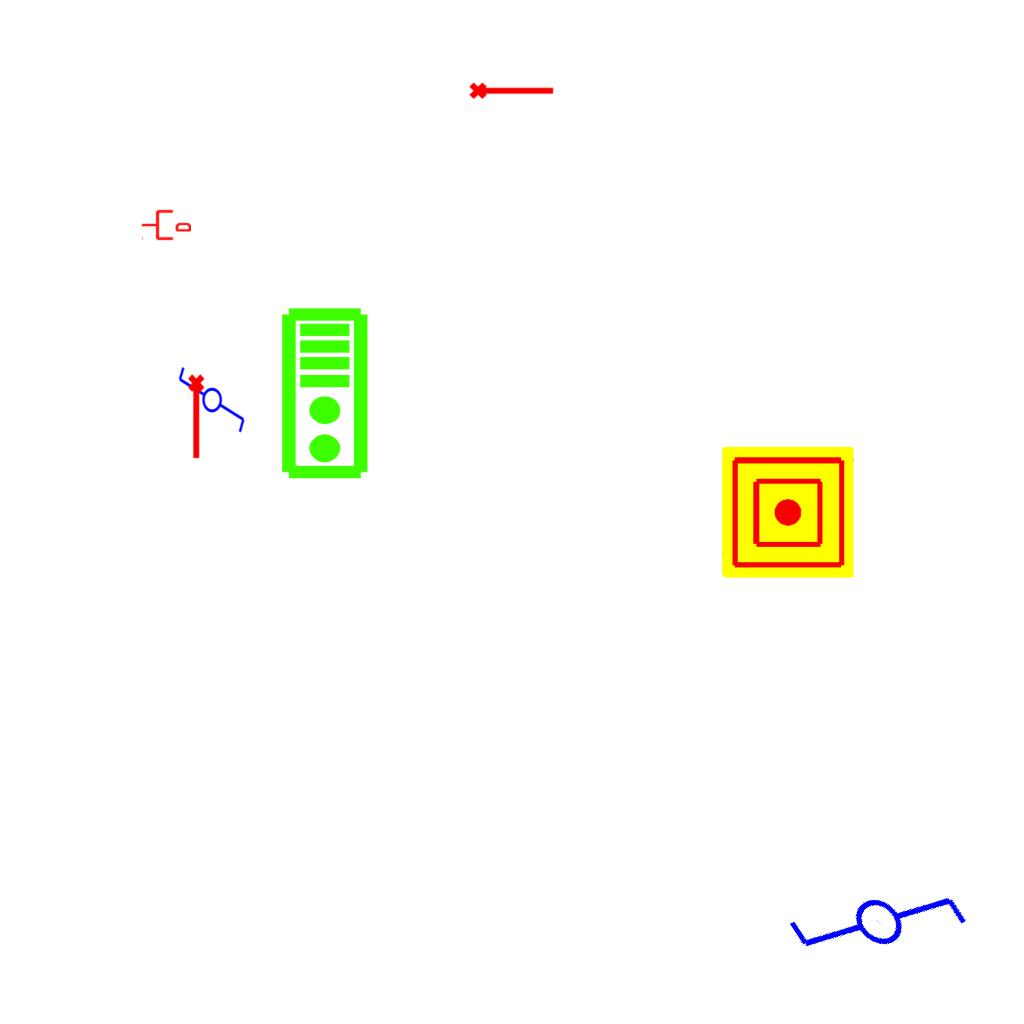ASR_Ansaugoeffnung: (468, 78, 556, 101), (186, 373, 209, 461)
Datenanschluss_einfach: (141, 208, 191, 242)
Gegensprechanlage_mit_Video: (279, 306, 374, 482)
NAM-Nichtautomatischer_Melder: (722, 446, 854, 578)
Wechselschalter: (777, 823, 990, 1024), (175, 365, 247, 443)
